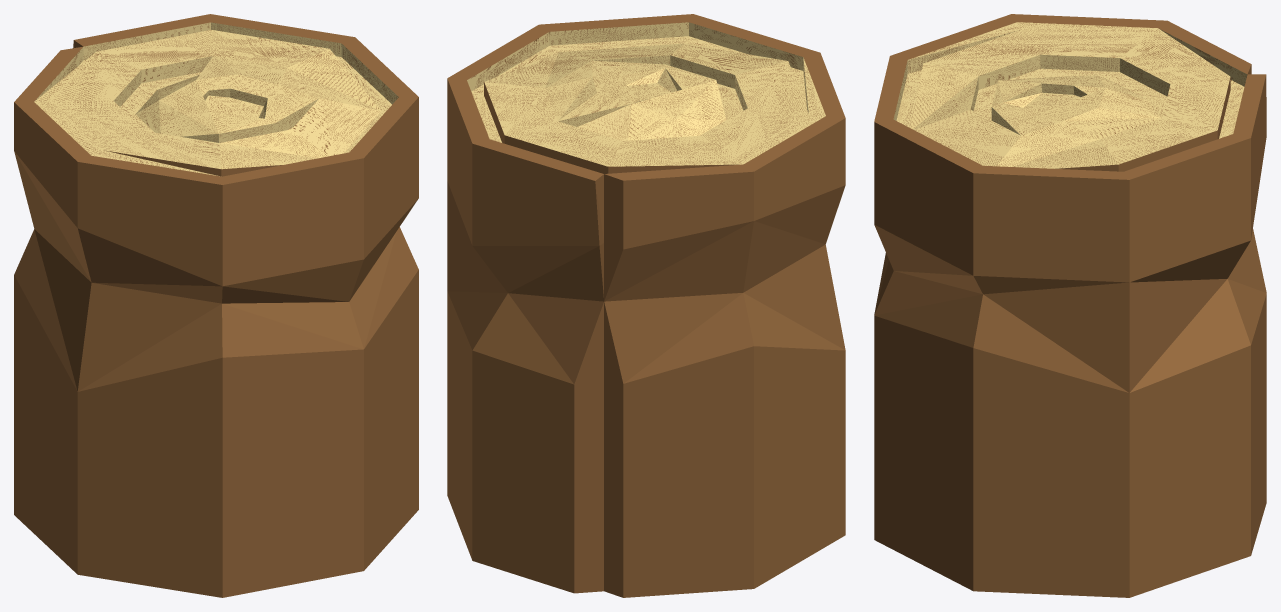
The model's file is Chair2.fbx.
3 renders of one model, left to right at view 1: azimuth 30°, elevation 25°; view 2: azimuth 150°, elevation 25°; view 3: azimuth 270°, elevation 25°, orthographic.
Parts seen in each view (by area): view 1: Group1; view 2: Group1; view 3: Group1.
Part boxes in pixels (x1,y1,x2,y2): Group1: [14, 14, 418, 597]; Group1: [447, 14, 845, 597]; Group1: [874, 14, 1266, 597].
Size of the model in its own units: 383 by 467 by 383.
